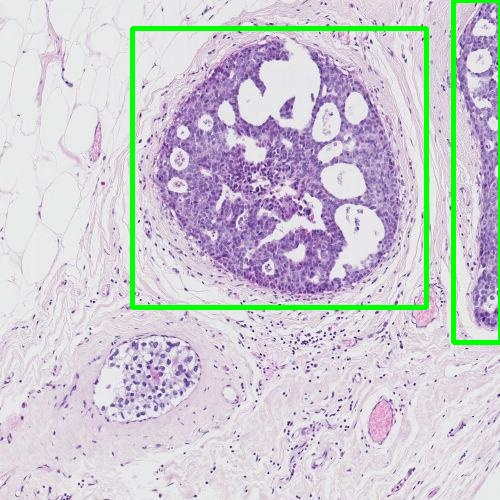DCIS: (132, 28, 426, 307), (453, 0, 500, 342)
